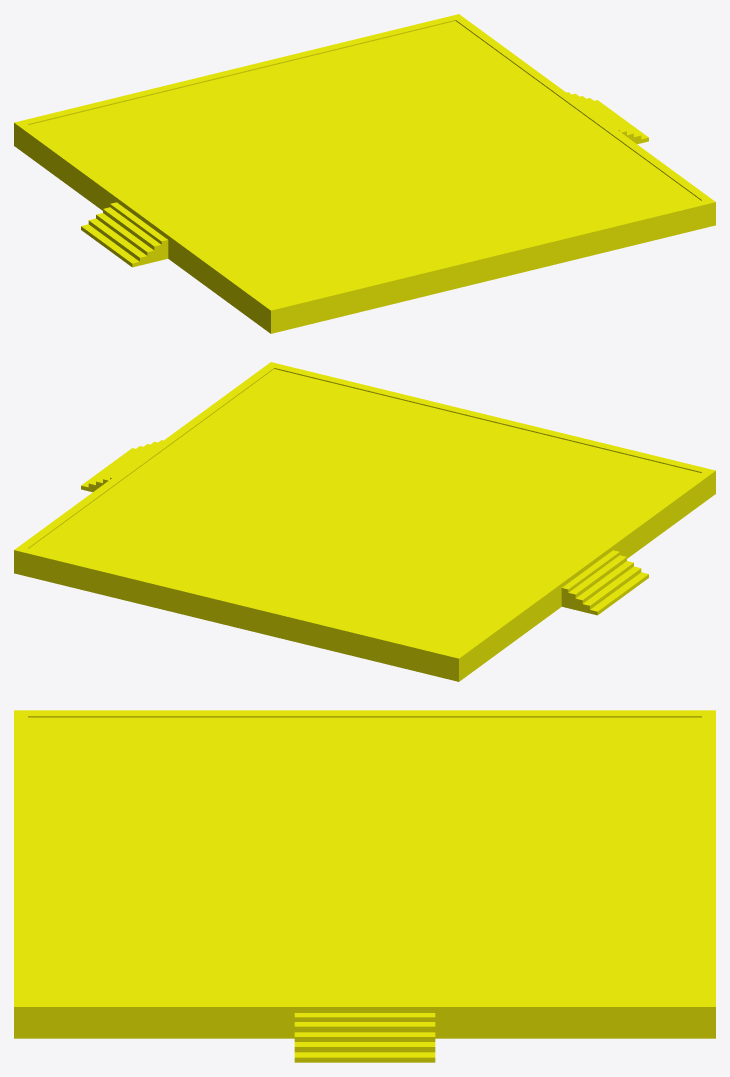
Rendered from snow_ring_lod_01.glb.
The picture shows the model from 3 angles, top to bottom: view 1: azimuth 30°, elevation 25°; view 2: azimuth 150°, elevation 25°; view 3: azimuth 270°, elevation 25°; orthographic projection. The views are drawn at different scales.
Visible parts, largest first — view 1: ring; view 2: ring; view 3: ring.
Boxes of the visible parts, <box> form: ring: <box>14,14,715,333</box>; ring: <box>14,362,715,681</box>; ring: <box>14,710,715,1062</box>.
Size of the model in its own units: 69.73 by 3 by 60.05.
Materials: 1 (1 with a texture image).
